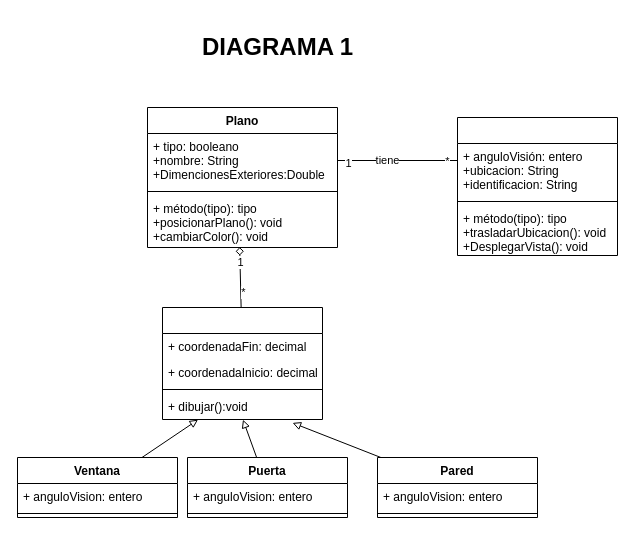
This 635x535 diagram has some shape labels left out. Here are the shapes that lost their labels. From the top down, the box of each, then its label:
(456, 116, 618, 256): Camara
(162, 306, 322, 420): Segmento
